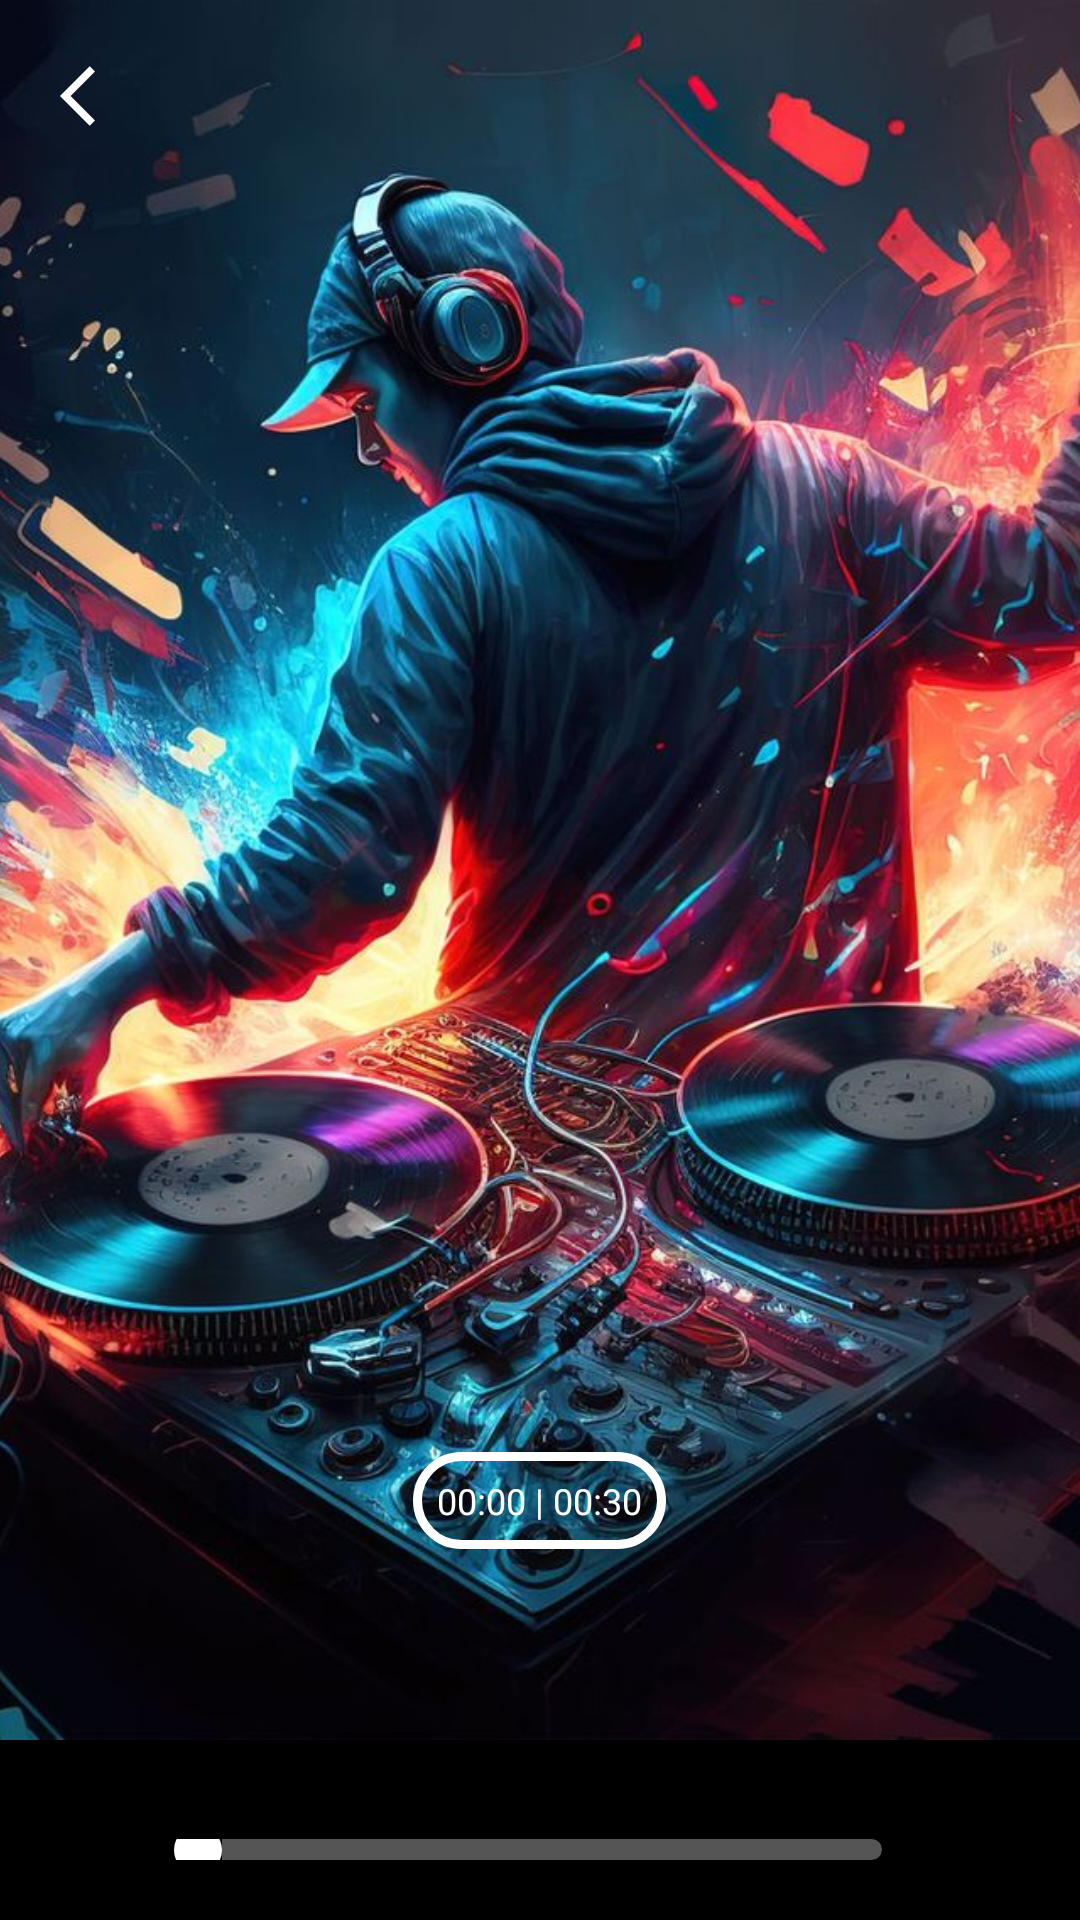

Icon click points for this 1080px×1920px phone screenshot, format [x,y]:
arrow back: [77,96]
